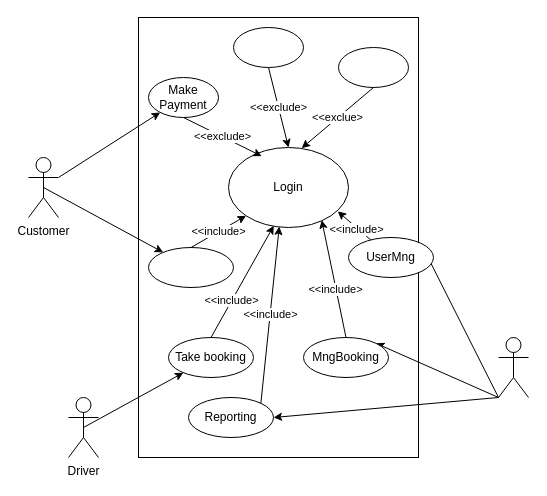
The diagram is 547 pixels wide and 496 high, and some of its shapes have lost their labels. Here are the shapes that lost their labels. From the top down, the centre of each, then its label:
At [268,47]: "Registration".
At [373,67]: "Help".
At [191,267]: "Make booking".
At [513,367]: "Admin".
